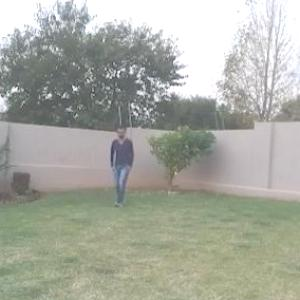follow: (107, 118, 137, 212)
